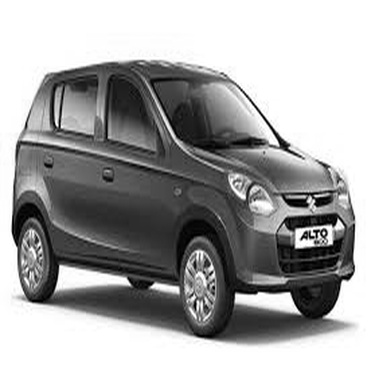car: (4, 44, 363, 336)
